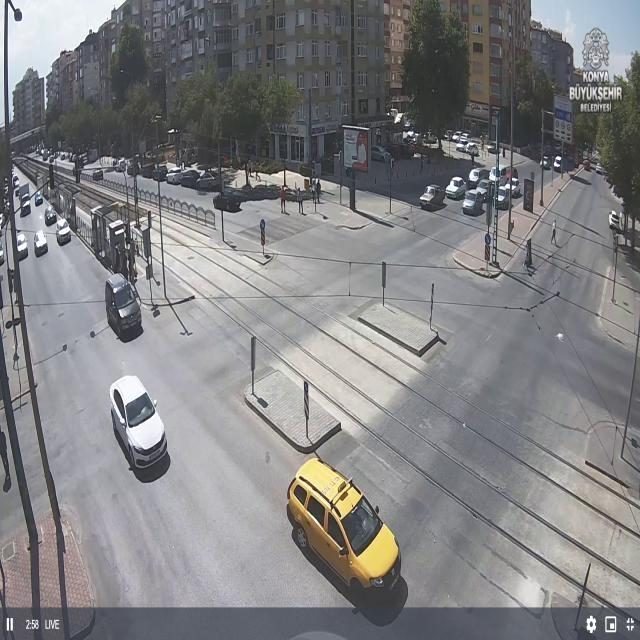Car: (269, 454, 408, 596), (104, 377, 173, 475), (98, 276, 145, 339), (209, 190, 247, 216), (598, 208, 627, 235), (418, 183, 444, 210), (12, 227, 31, 260), (462, 188, 484, 215), (87, 168, 115, 189), (55, 217, 73, 243), (31, 230, 51, 252), (446, 176, 466, 197), (494, 186, 513, 208), (474, 178, 494, 197), (468, 166, 486, 185), (43, 206, 60, 225), (32, 189, 48, 208), (506, 178, 522, 195), (537, 156, 551, 169)
Truck: (13, 184, 36, 218)
Van: (550, 156, 563, 173)
